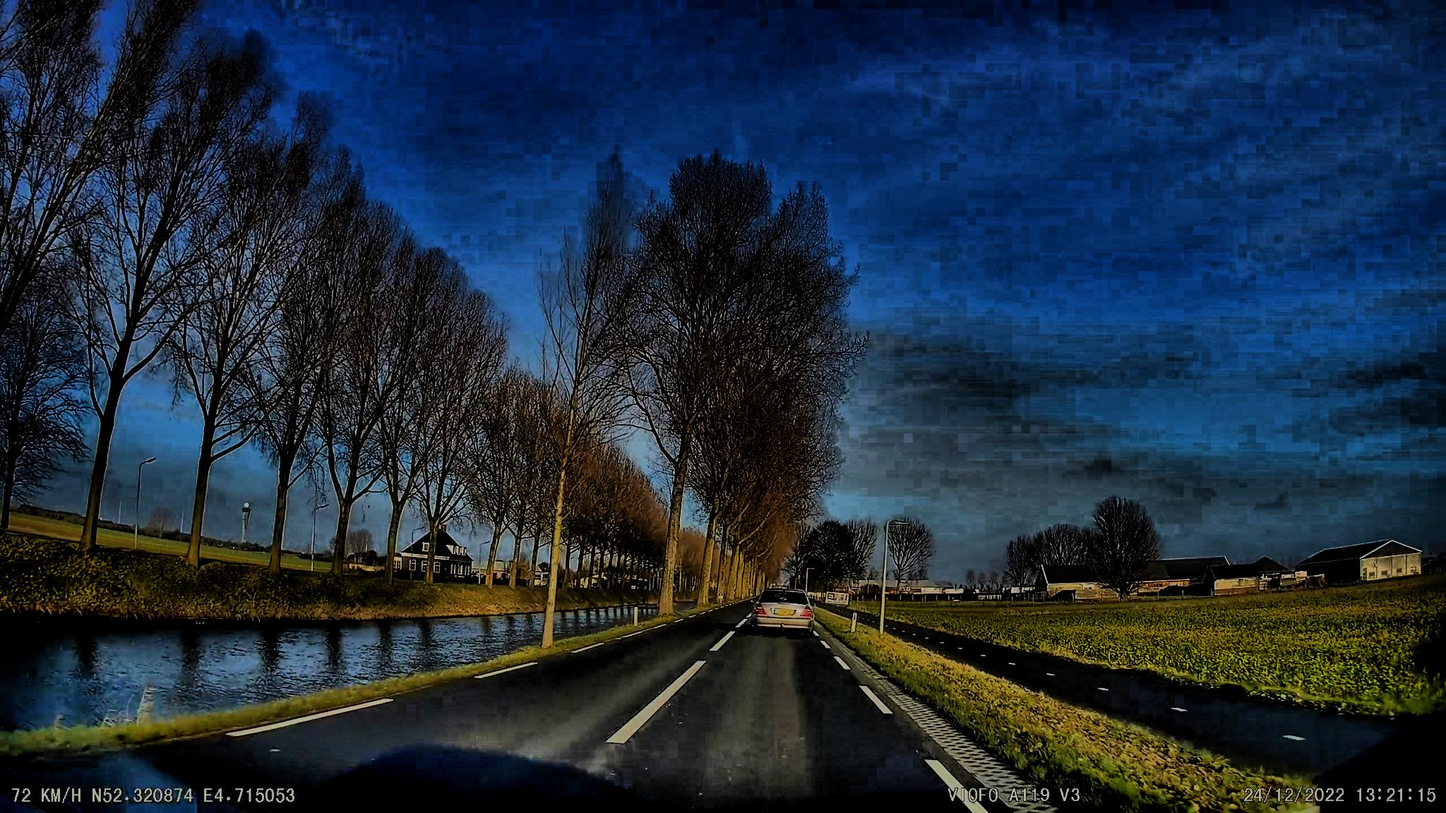Roads: (0, 610, 994, 813)
